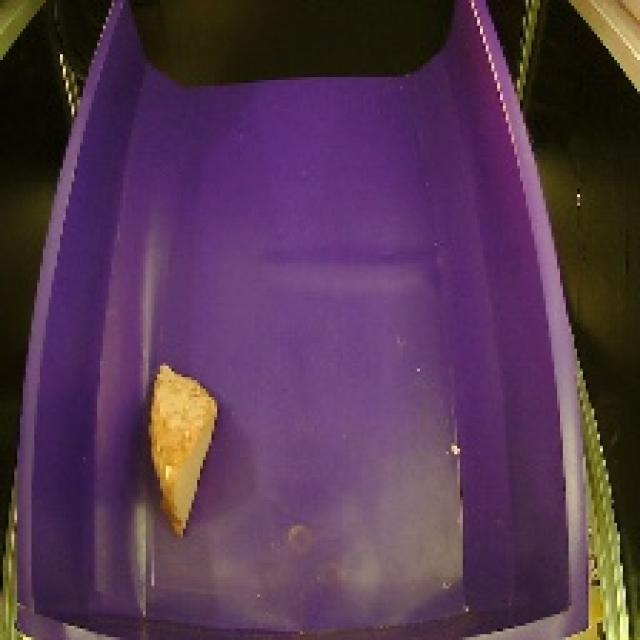brick: (142, 351, 230, 548)
